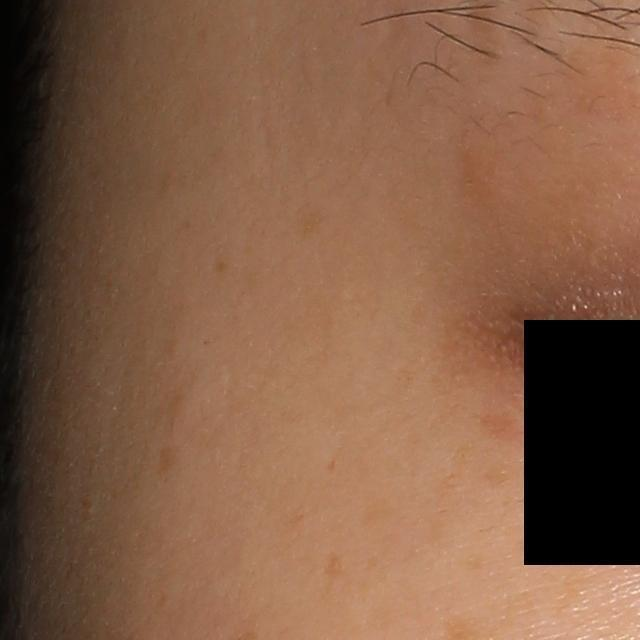melasma: (457, 126, 529, 212), (433, 442, 481, 502), (466, 411, 521, 445), (484, 460, 520, 490), (318, 554, 343, 579)
